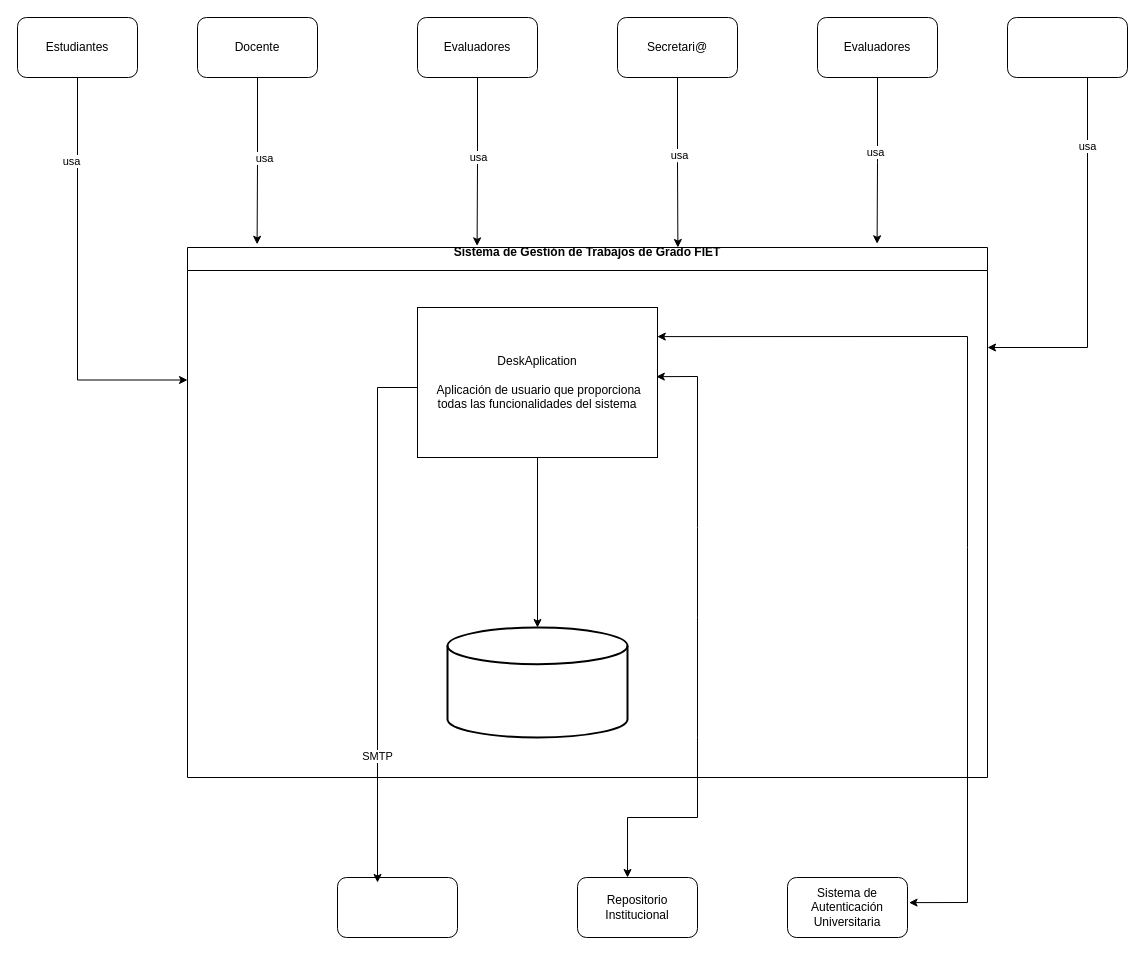
Image size: 1145x955. Some labels were removed from this diagram. Here are the shapes that lost their labels. From the top down, the centre of each, then its label:
At [1067,47]: "Coordinador".
At [537,682]: "Base de Datos Almacena toda la información del sistema".
At [397,907]: "Sistema de Correos".
